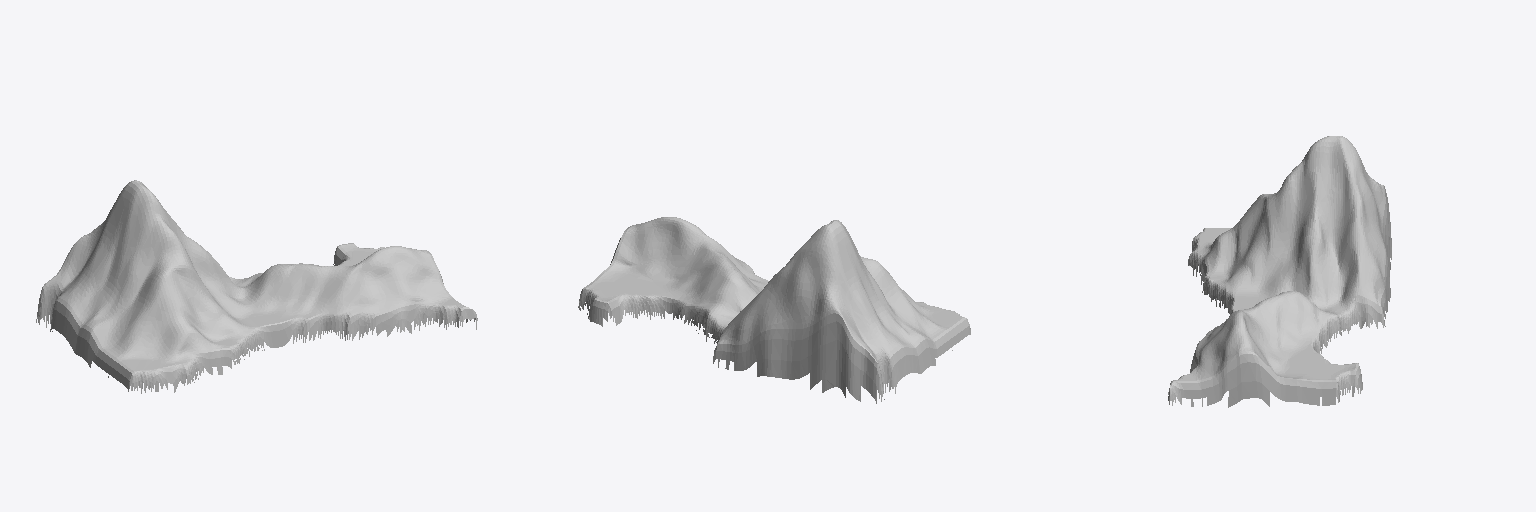
File: map.obj
3 views of the same model, side by side, from view 1: azimuth 30°, elevation 25°; view 2: azimuth 150°, elevation 25°; view 3: azimuth 270°, elevation 25° (orthographic).
Visible parts, largest first — view 1: mapv8; view 2: mapv8; view 3: mapv8.
Boxes of the visible parts, x1=… form: mapv8: x1=36, y1=180, x2=477, y2=393; mapv8: x1=578, y1=217, x2=970, y2=403; mapv8: x1=1168, y1=136, x2=1391, y2=407.
Bounding box in the file's own units: 14937 × 6433 × 8712.